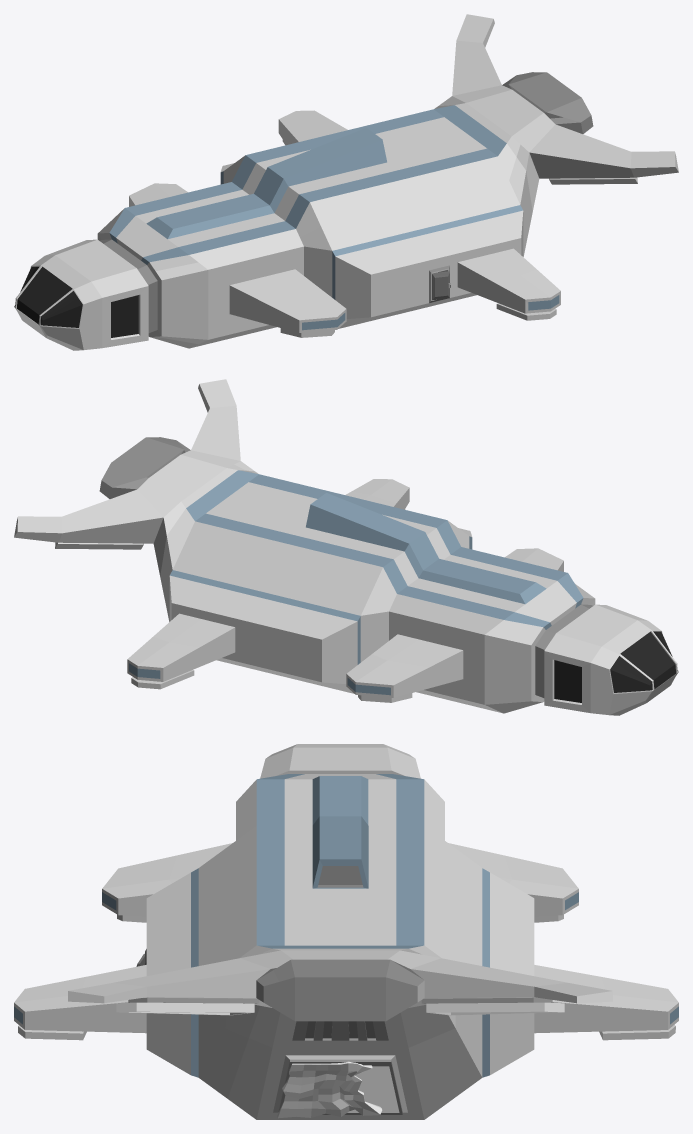
File: SpaceshipOutside.fbx
The picture shows the model from 3 angles, top to bottom: view 1: azimuth 30°, elevation 25°; view 2: azimuth 150°, elevation 25°; view 3: azimuth 270°, elevation 25°; orthographic projection. The views are drawn at different scales.
Parts seen in each view (by area): view 1: Cube; view 2: Cube; view 3: Cube, Cube.001.
Part boxes in pixels (x1,y1,x2,y2): Cube: [14, 14, 678, 350]; Cube: [14, 379, 678, 715]; Cube: [14, 744, 678, 1119]; Cube.001: [277, 1061, 382, 1118].
Size of the model in its own units: 7796 by 2101 by 6163.
